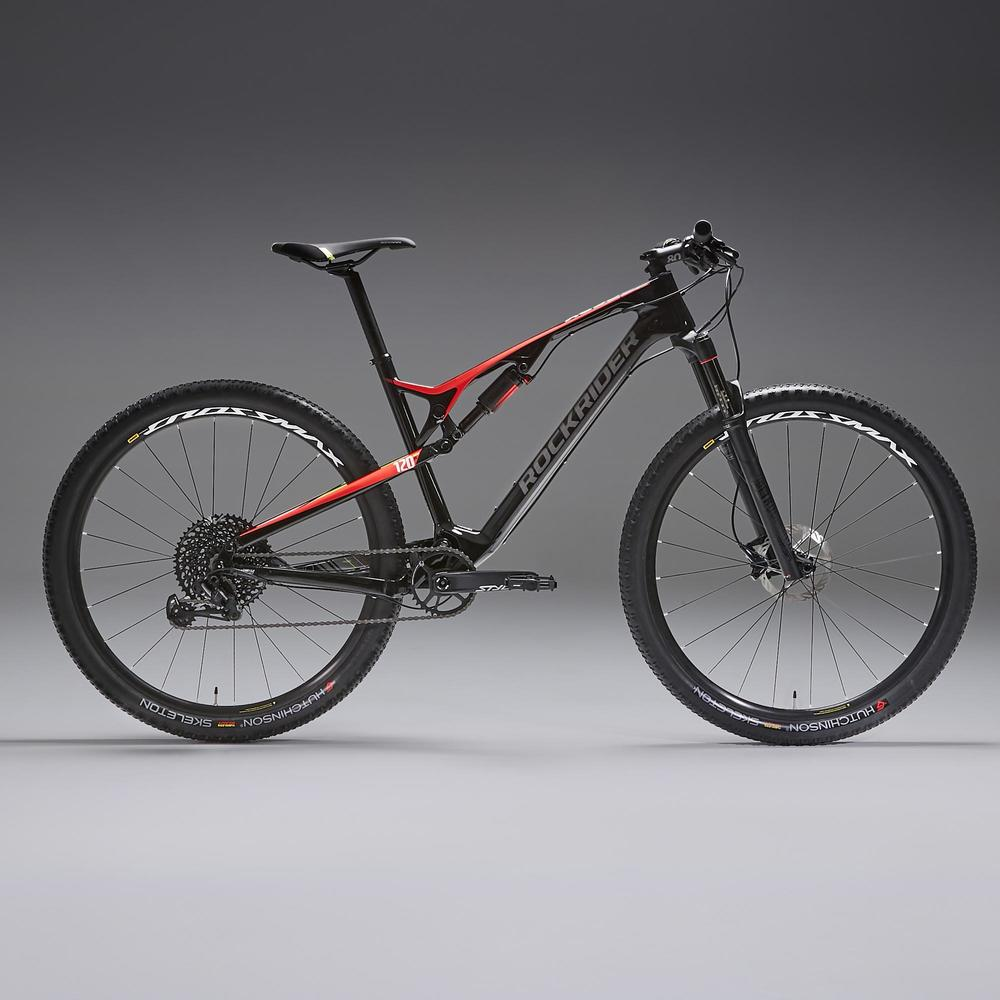MountainBike: (38, 214, 981, 751)
